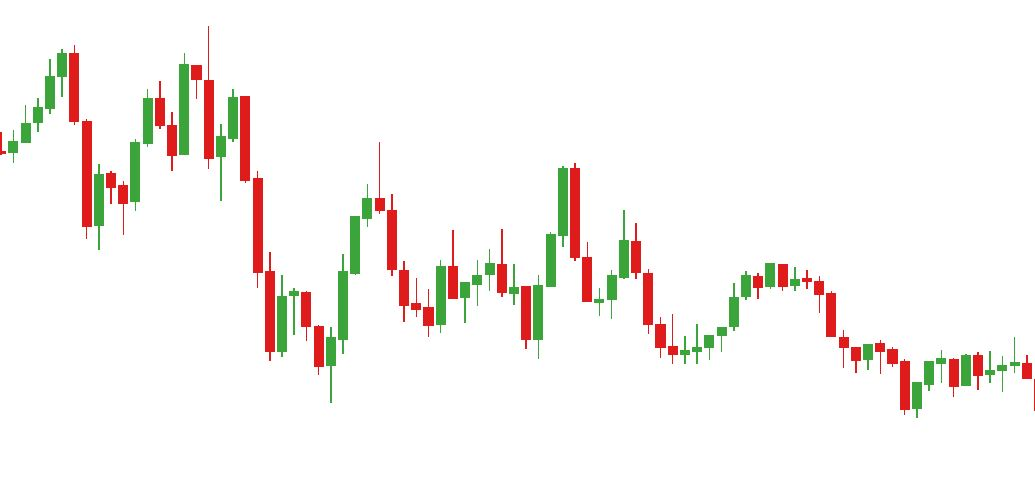sell: (493, 160, 583, 290)
